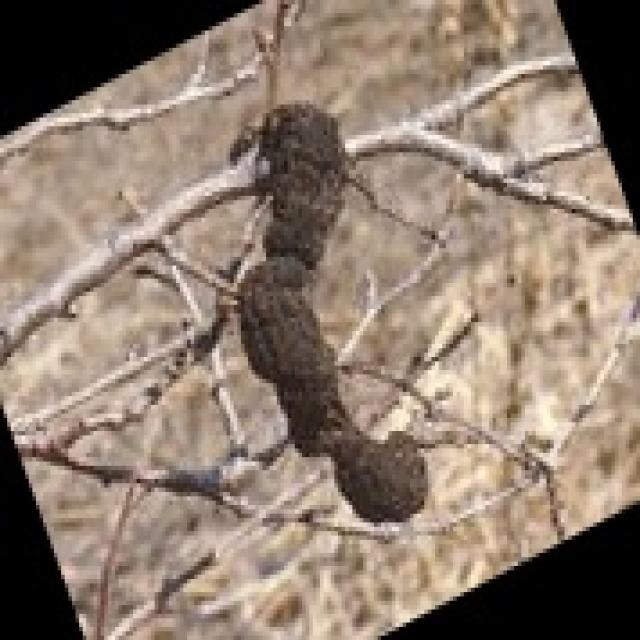Black_knot: (219, 91, 432, 527)
